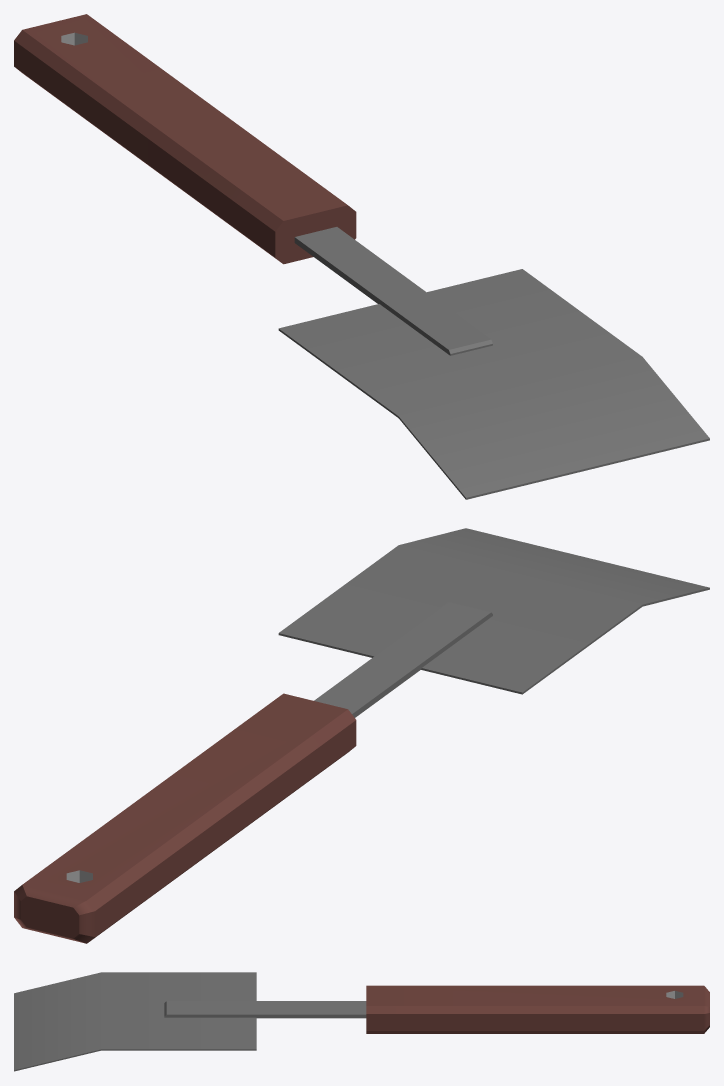
Rendered from Flipper3.fbx.
3 renders of one model, top to bottom at view 1: azimuth 30°, elevation 25°; view 2: azimuth 150°, elevation 25°; view 3: azimuth 270°, elevation 25°, orthographic. The views are drawn at different scales.
Visible parts, largest first — view 1: Flipper3; view 2: Flipper3; view 3: Flipper3.
Boxes of the visible parts, left/top/right/bottom form: Flipper3: left=14, top=14, right=709, bottom=499; Flipper3: left=14, top=528, right=709, bottom=943; Flipper3: left=14, top=972, right=709, bottom=1071.
Size of the model in its own units: 15.6 by 3.53 by 59.58.
